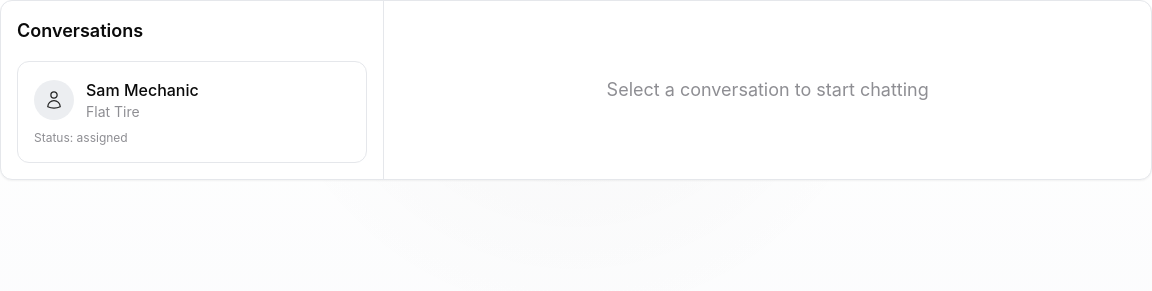
Test: ChatInterface receives live socket messages without stale closure or duplicate sends
This screenshot has width=1152, height=291.
Later steps or results of the test are not shown.
Step 1. Click the heading "Sam Mechanic" → (142, 90), box [86,78,199,102]
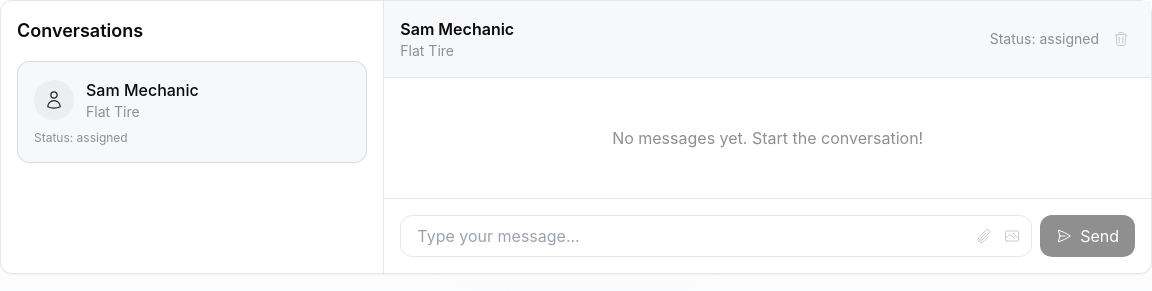
// Send a message and confirm REST response + echo socket event deduplicate to 1 bubble
Step 2. Type "On my way?" into the field with placeholder "Type your message..." → (716, 236), box [400,215,1032,257]
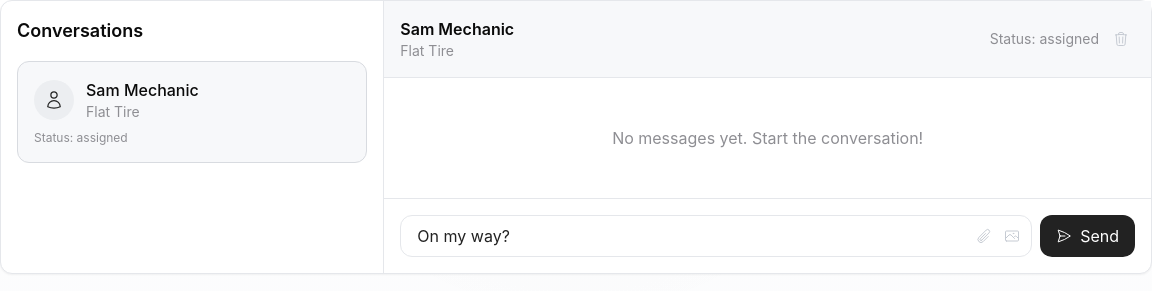
Step 3. Submit the form "Send", box [400,215,1135,257]
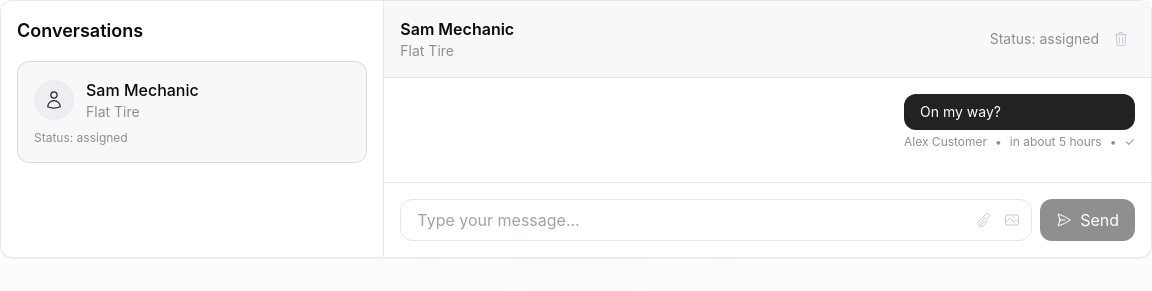
Check: the text "On my way?" is shown once, box [920,103,1001,120]
